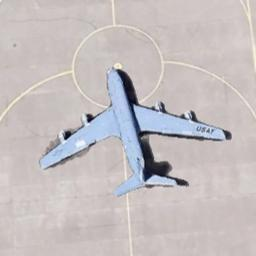Airplane: (38, 63, 232, 197)
